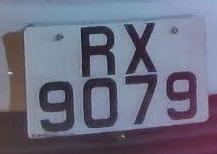0: (75, 75, 127, 133)
7: (119, 71, 166, 130)
9: (31, 74, 80, 139), (159, 67, 206, 128)
R: (73, 20, 123, 82)
X: (120, 16, 162, 78)
